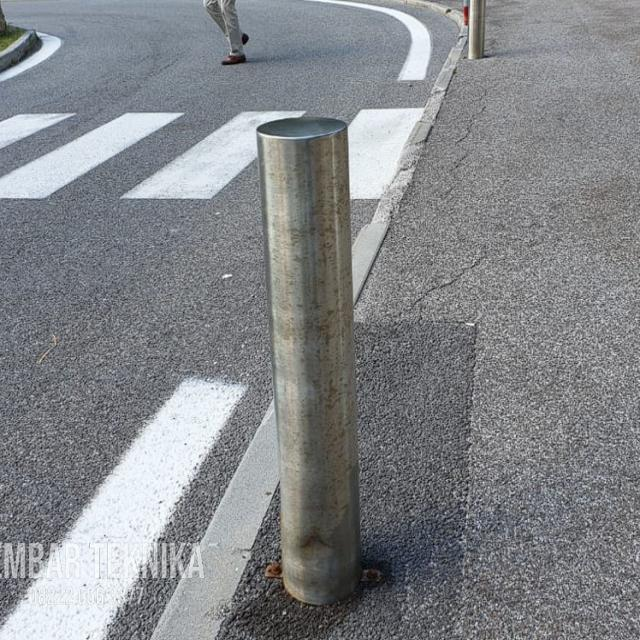obstacle: (253, 109, 364, 613)
